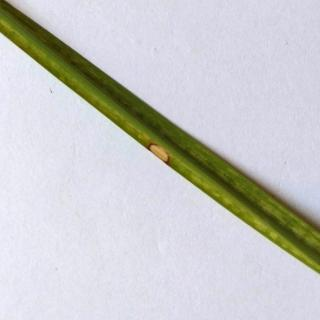Blast: (133, 121, 190, 192)
